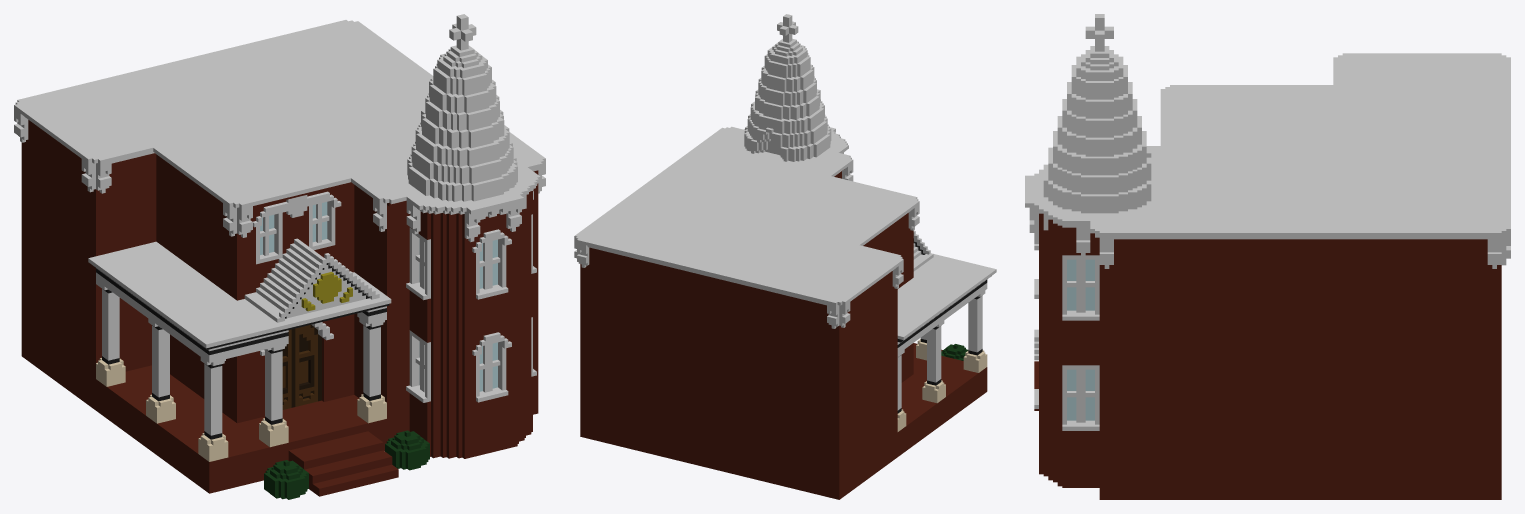
Rendered from house1.obj.
The picture shows the model from 3 angles, left to right: view 1: azimuth 30°, elevation 25°; view 2: azimuth 150°, elevation 25°; view 3: azimuth 270°, elevation 25°; orthographic projection. The views are drawn at different scales.
Size of the model in its own units: 9.1 by 10.5 by 10.4.
Materials: 1 (1 with a texture image).
